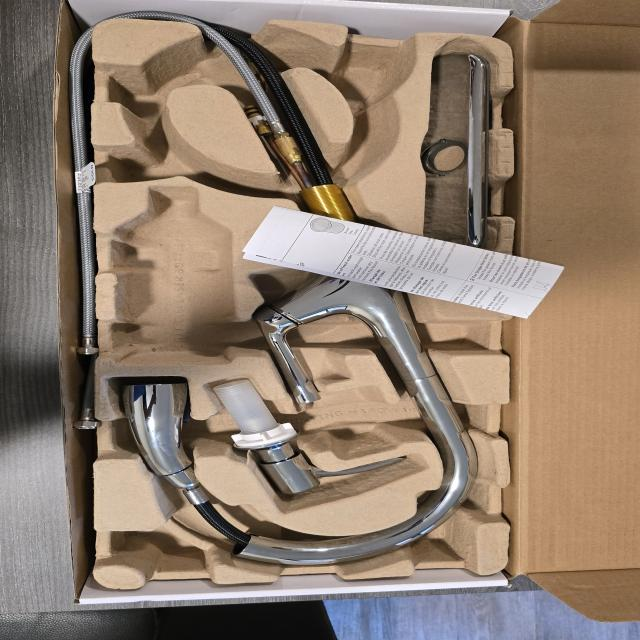1o: (117, 16, 480, 565)
2: (210, 379, 406, 498)
3m: (114, 184, 236, 366)
4o: (421, 54, 488, 253)
5m: (329, 52, 412, 107)
6m: (110, 46, 204, 114)
7m: (109, 122, 243, 189)
8: (240, 205, 567, 320)
